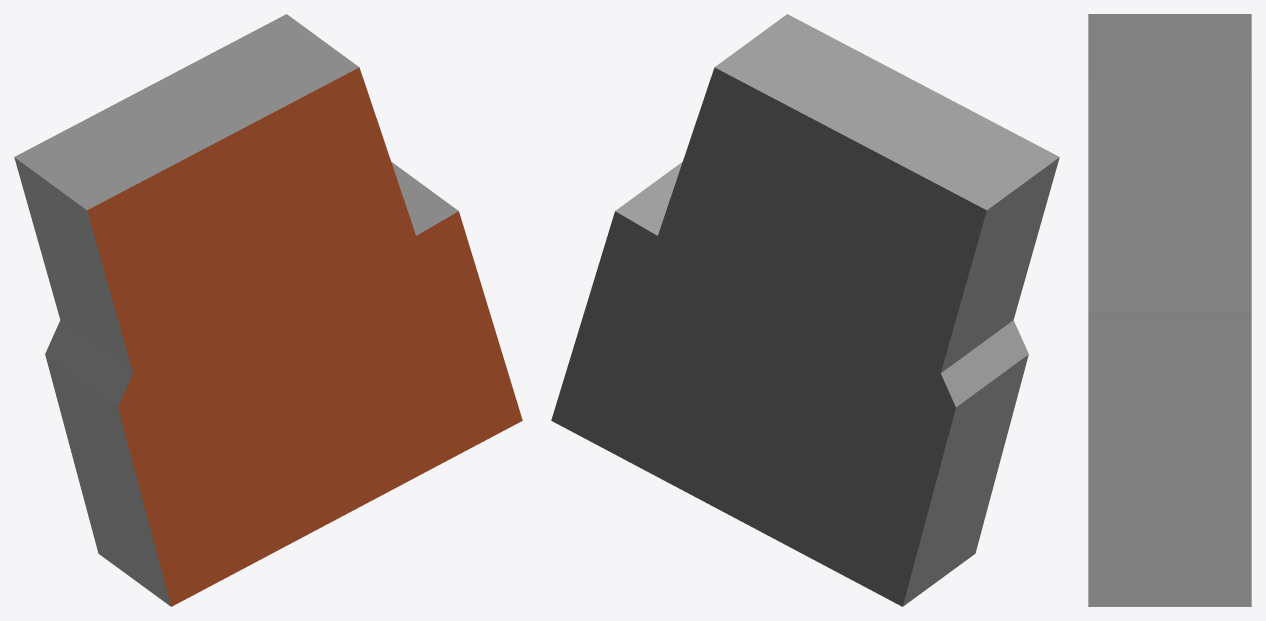
The model's file is construction_1220_assumed_A_Casa_h6m.obj.
3 renders of one model, left to right at view 1: azimuth 30°, elevation 25°; view 2: azimuth 150°, elevation 25°; view 3: azimuth 270°, elevation 25°, orthographic. The views are drawn at different scales.
Visible parts, largest first — view 1: construction_1220_assumed_A_Casa; view 2: construction_1220_assumed_A_Casa; view 3: construction_1220_assumed_A_Casa.
Part boxes in pixels (bbox=[...]): construction_1220_assumed_A_Casa: bbox=[14, 14, 522, 606]; construction_1220_assumed_A_Casa: bbox=[551, 14, 1059, 606]; construction_1220_assumed_A_Casa: bbox=[1088, 14, 1251, 606].
Bounding box in the file's own units: 20.72 × 22.43 × 6.
